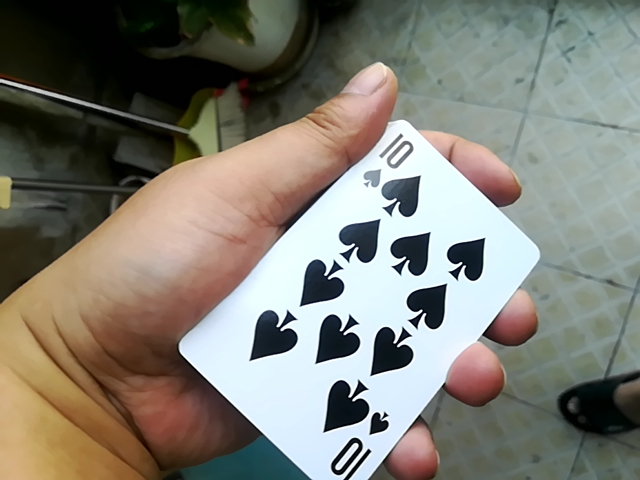ht 10: (165, 112, 537, 475)
